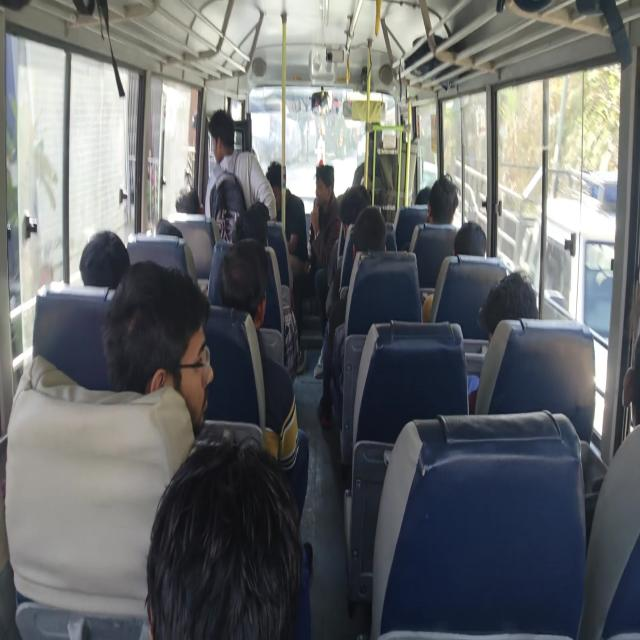person: (144, 433, 306, 639), (219, 238, 309, 525), (102, 259, 214, 435), (318, 205, 387, 428), (467, 270, 539, 414), (204, 109, 277, 242), (422, 220, 486, 322), (265, 160, 309, 276), (477, 270, 539, 342), (309, 164, 340, 270), (79, 230, 130, 288), (426, 175, 458, 225), (454, 221, 486, 257)
